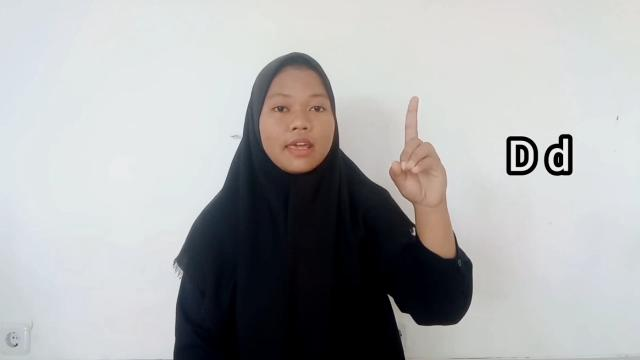D: (388, 93, 448, 207)
